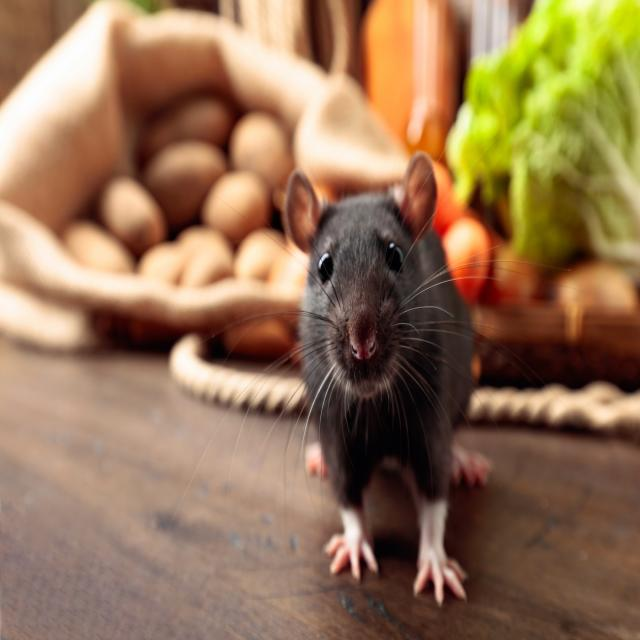rat: (279, 150, 507, 607)
